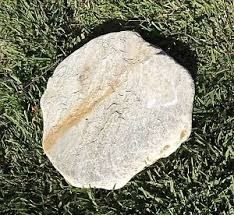obstacle: (40, 31, 193, 188)
